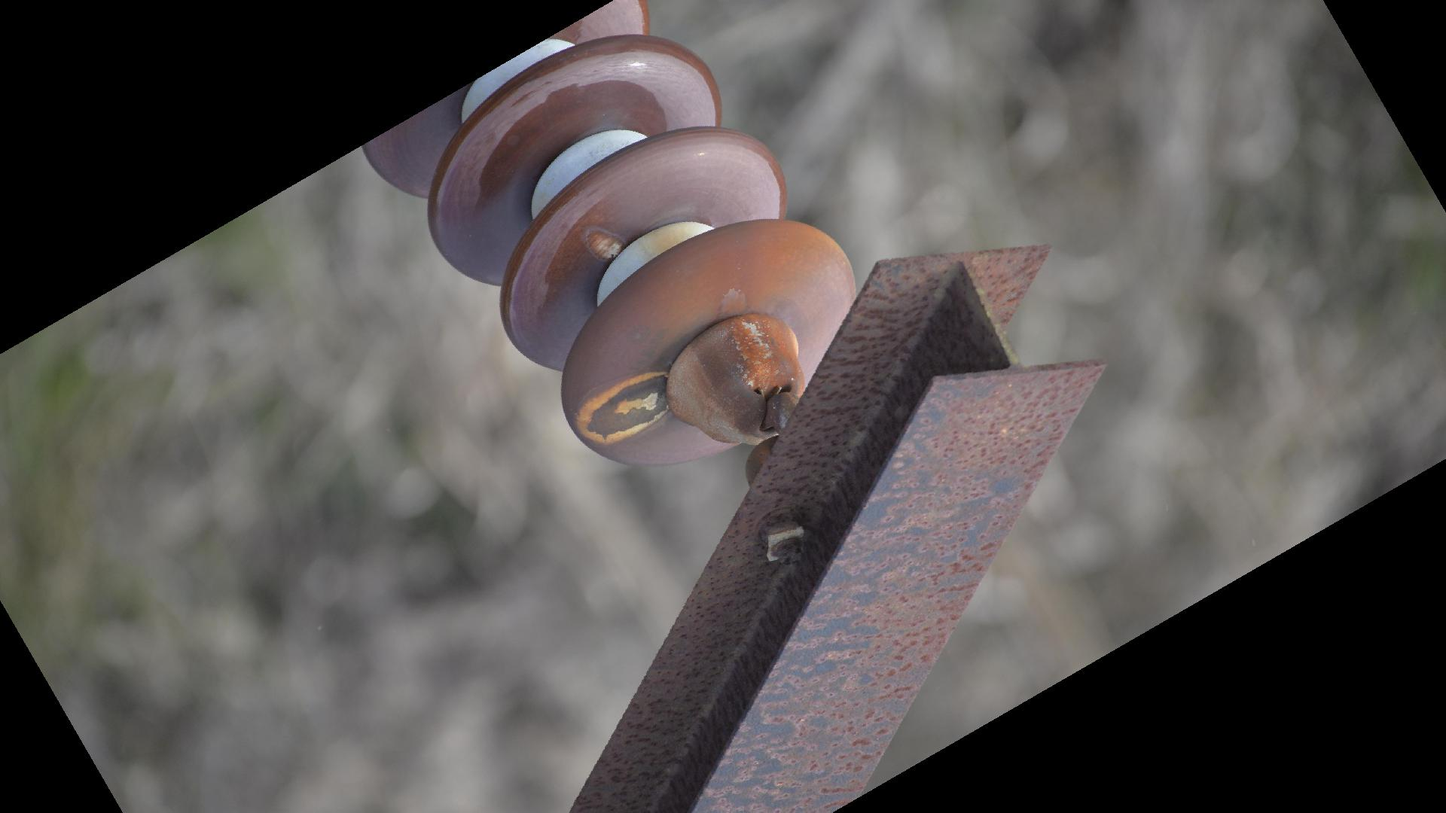insulator: (357, 1, 866, 476)
insulator_flashover: (578, 370, 673, 446), (580, 224, 627, 264)
